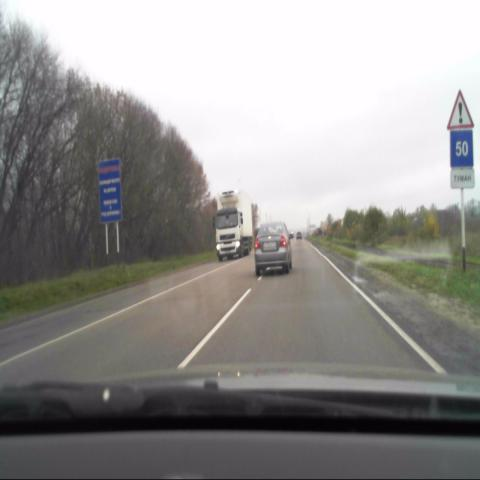1_33: (448, 89, 473, 128)
6_2: (450, 129, 474, 167)
